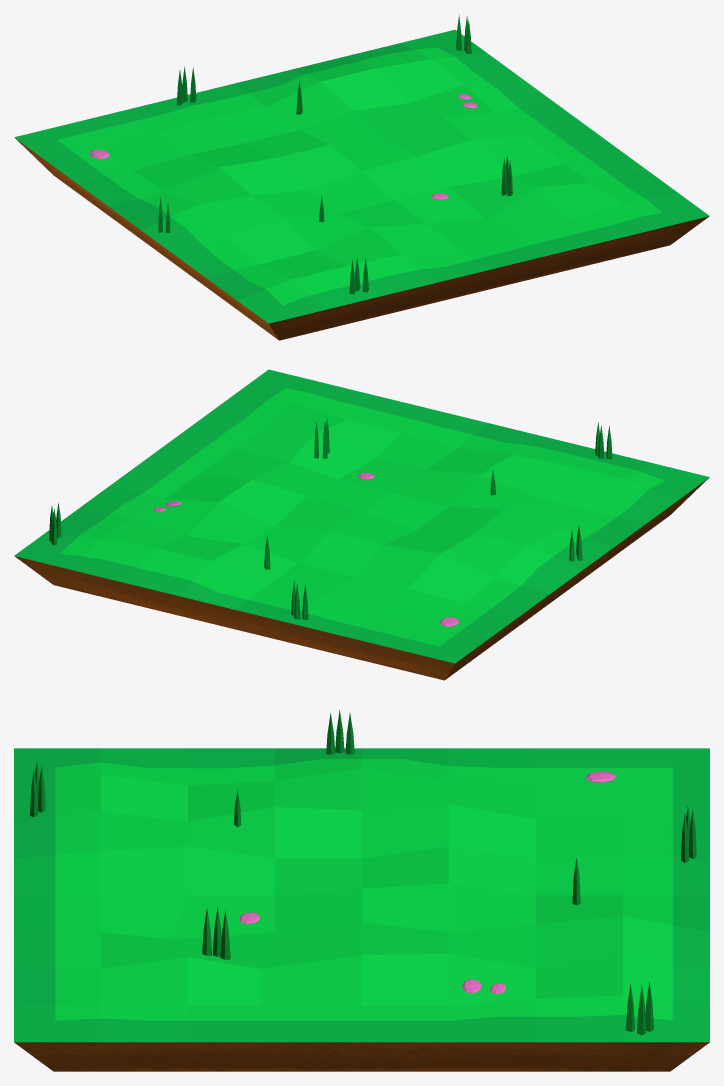
File: grassflowerpink.fbx
3 renders of one model, top to bottom at view 1: azimuth 30°, elevation 25°; view 2: azimuth 150°, elevation 25°; view 3: azimuth 270°, elevation 25°, orthographic. The views are drawn at different scales.
Visible parts, largest first — view 1: pCube1; view 2: pCube1; view 3: pCube1.
Boxes of the visible parts, box(x1,y1,x2,y2) form: pCube1: box(14, 30, 709, 340); pCube1: box(14, 369, 709, 680); pCube1: box(14, 748, 709, 1071).
Size of the model in its own units: 97.93 by 14.79 by 97.93.
4 materials, 2 textured.
